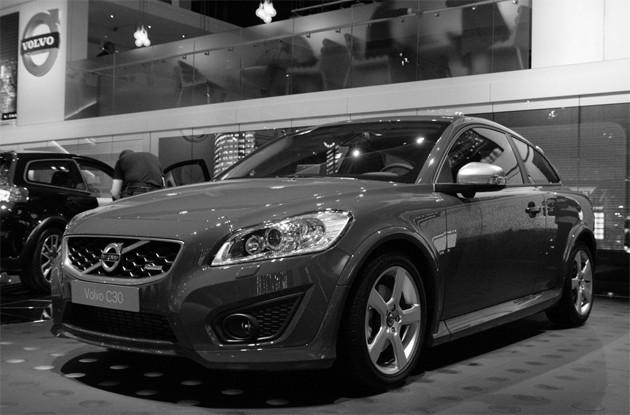car: (46, 106, 608, 392)
